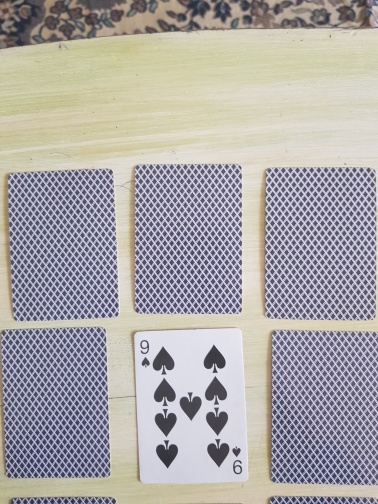nine: (131, 327, 250, 485)
